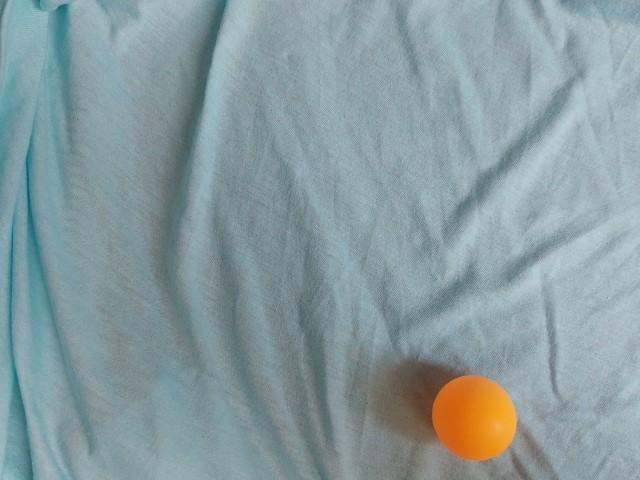oball: (115, 15, 215, 112)
